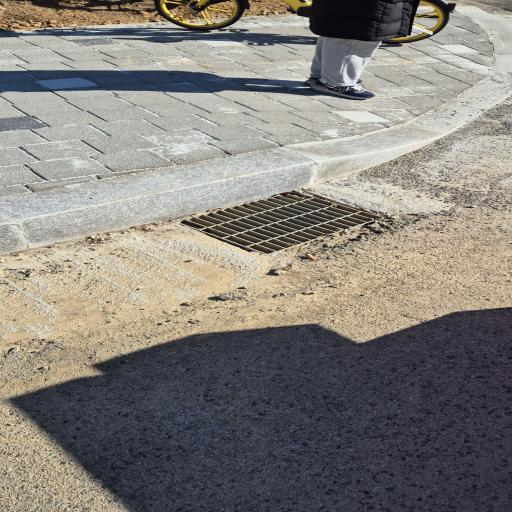drain: (183, 193, 378, 253)
